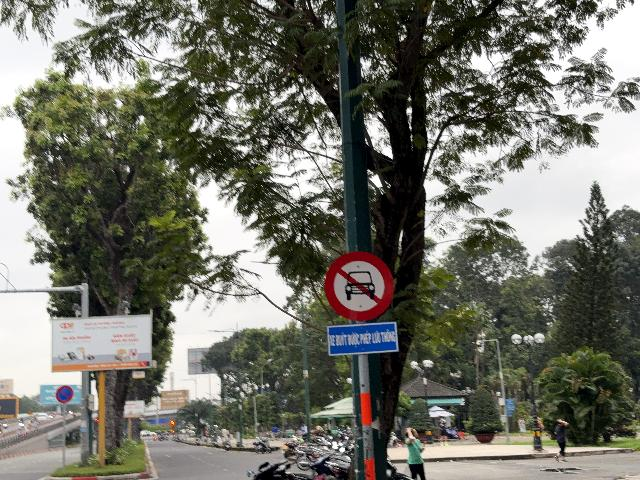cam-o-to: (325, 251, 395, 322)
